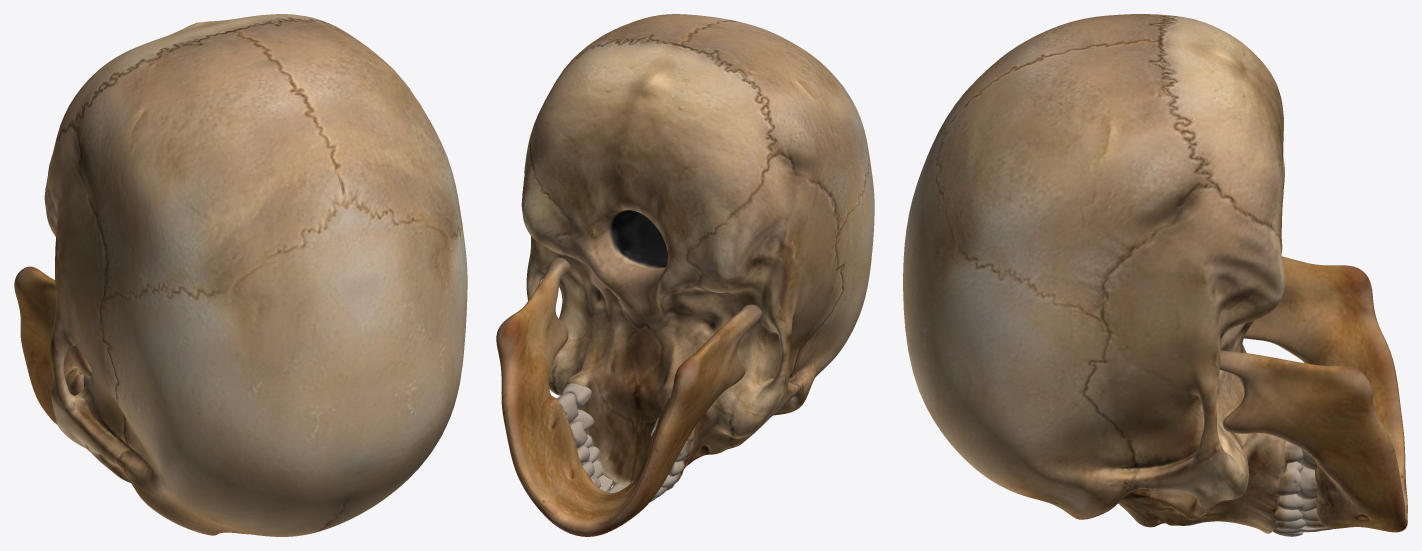
The model's file is calavera_gltf_original.glb.
The picture shows the model from 3 angles, left to right: view 1: azimuth 30°, elevation 25°; view 2: azimuth 150°, elevation 25°; view 3: azimuth 270°, elevation 25°; orthographic projection. The views are drawn at different scales.
Visible parts, largest first — view 1: Original; view 2: Original; view 3: Original.
Part boxes in pixels (box(x1,y1,x2,y2)): Original: box(14, 14, 467, 536); Original: box(496, 14, 874, 536); Original: box(903, 14, 1407, 536).
Bounding box in the file's own units: 19.84 × 29.45 × 27.53.
1 material, 1 textured.
